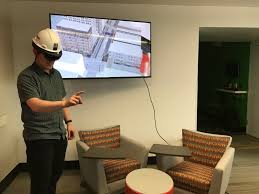hololens: (29, 37, 63, 62)
